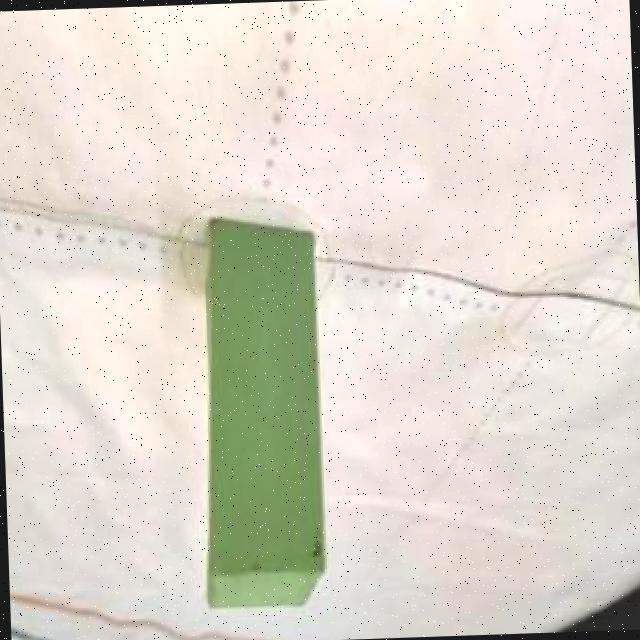greenbox: (192, 209, 328, 613)
